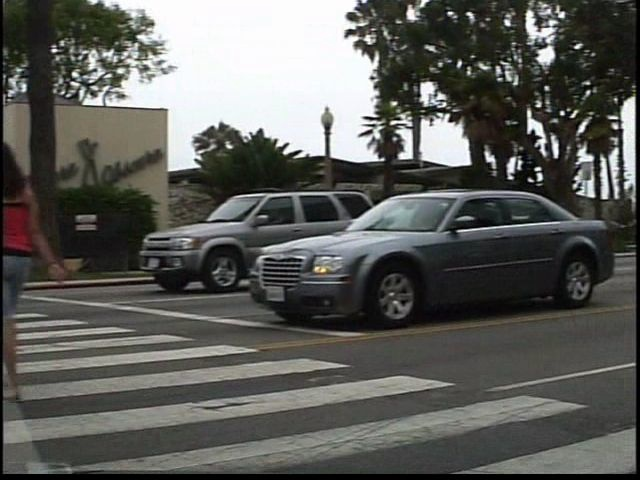person: (0, 137, 80, 405)
